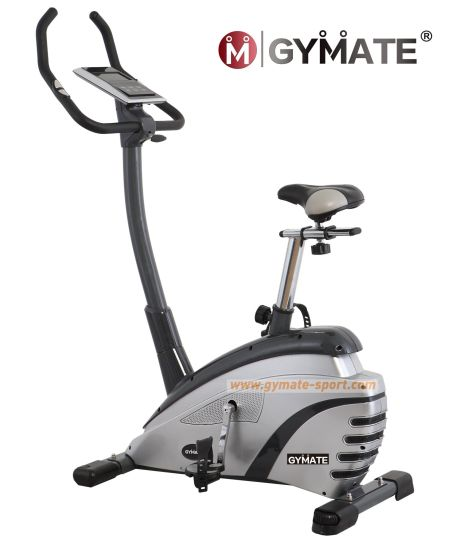gym_bike: (33, 13, 406, 522)
